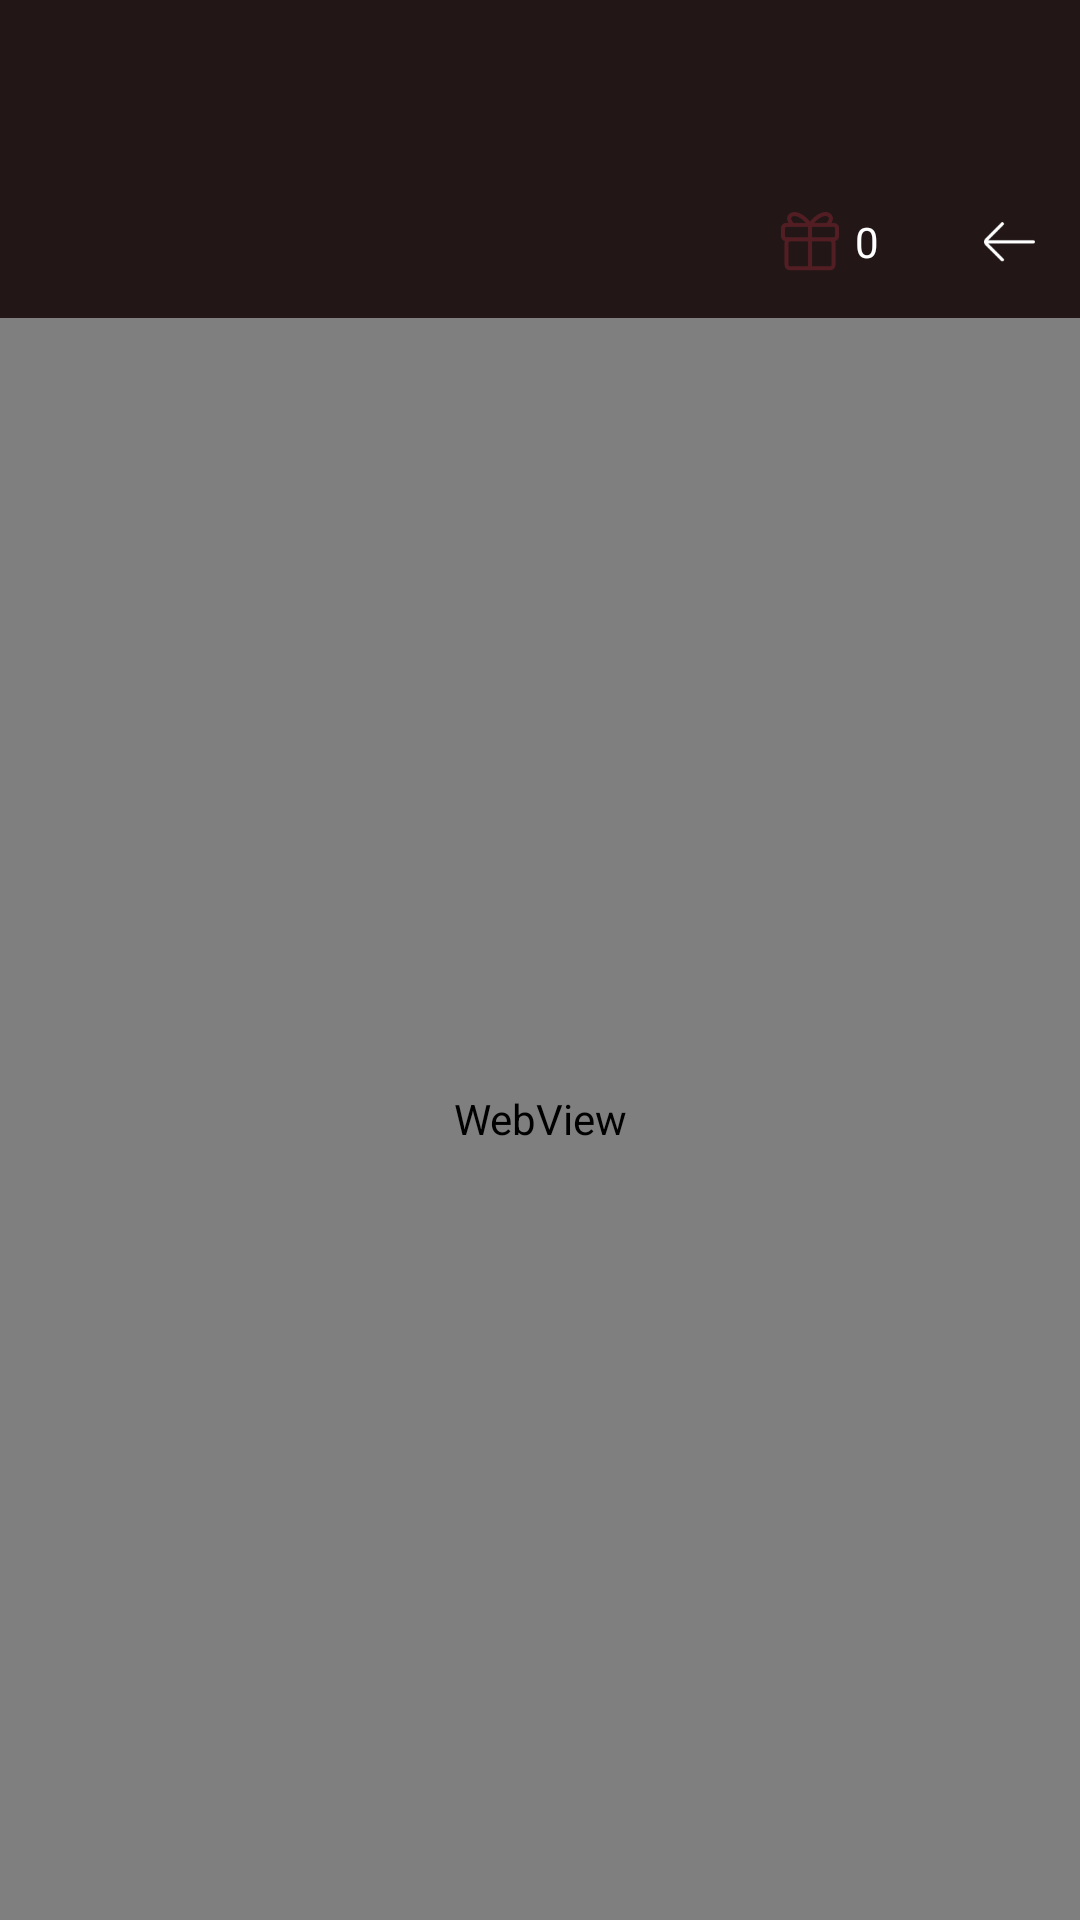

Named icons in this screenshot (1080px x 1920px) and their bounding boxes, (x1, y1, x2, y2):
back: (984, 222, 1035, 262)
gift: (781, 212, 839, 270)
